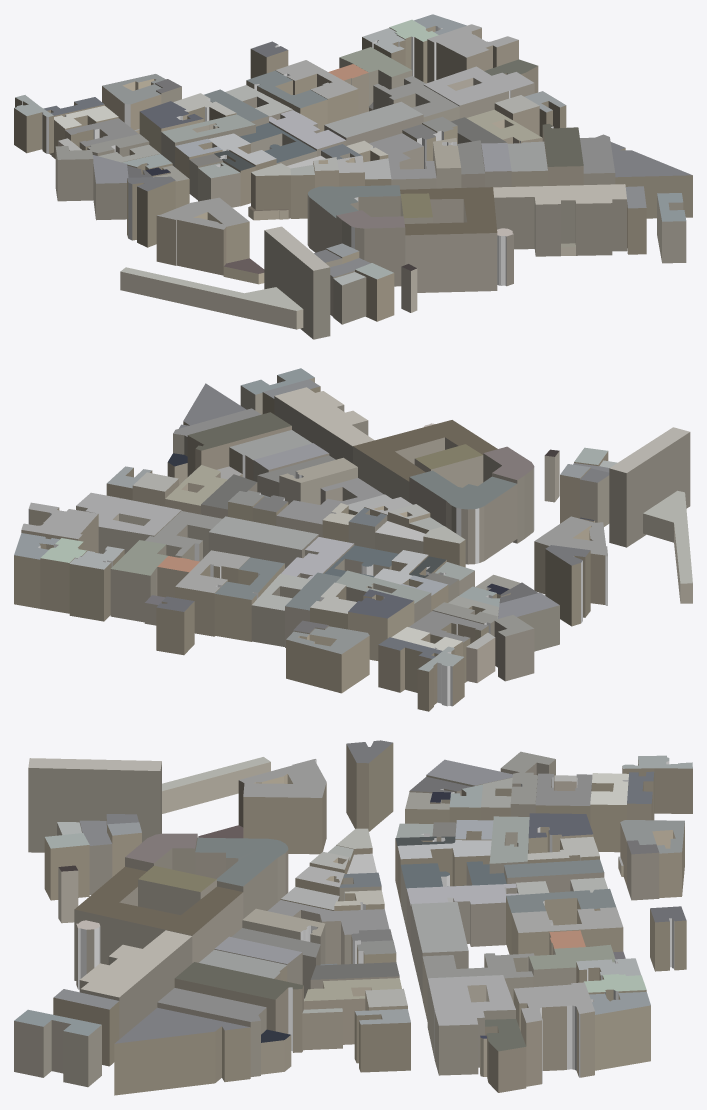
The picture shows the model from 3 angles, top to bottom: view 1: azimuth 30°, elevation 25°; view 2: azimuth 150°, elevation 25°; view 3: azimuth 270°, elevation 25°; orthographic projection. The views are drawn at different scales.
Parts seen in each view (by area): view 1: tuile; view 2: tuile; view 3: tuile.
Boxes of the visible parts, x1=… form: tuile: x1=14, y1=14, x2=692, y2=339; tuile: x1=14, y1=368, x2=692, y2=711; tuile: x1=14, y1=740, x2=692, y2=1095.
Bounding box in the file's own units: 293 × 45.14 × 273.
